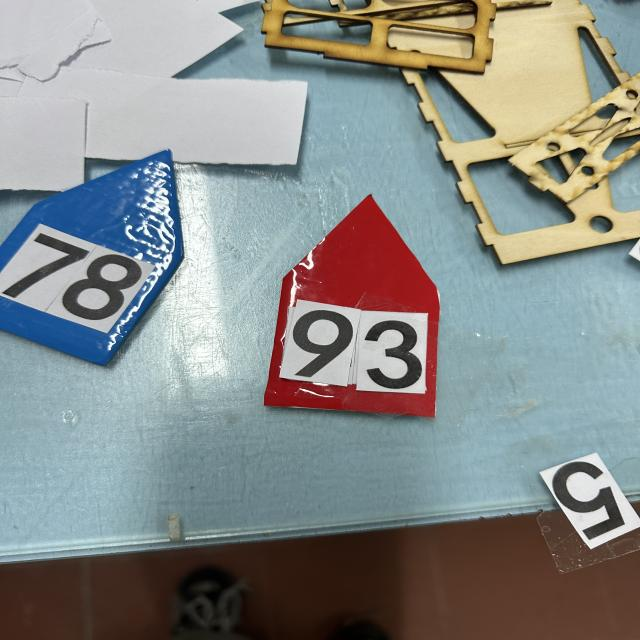board: (261, 191, 445, 417), (0, 149, 185, 368)
